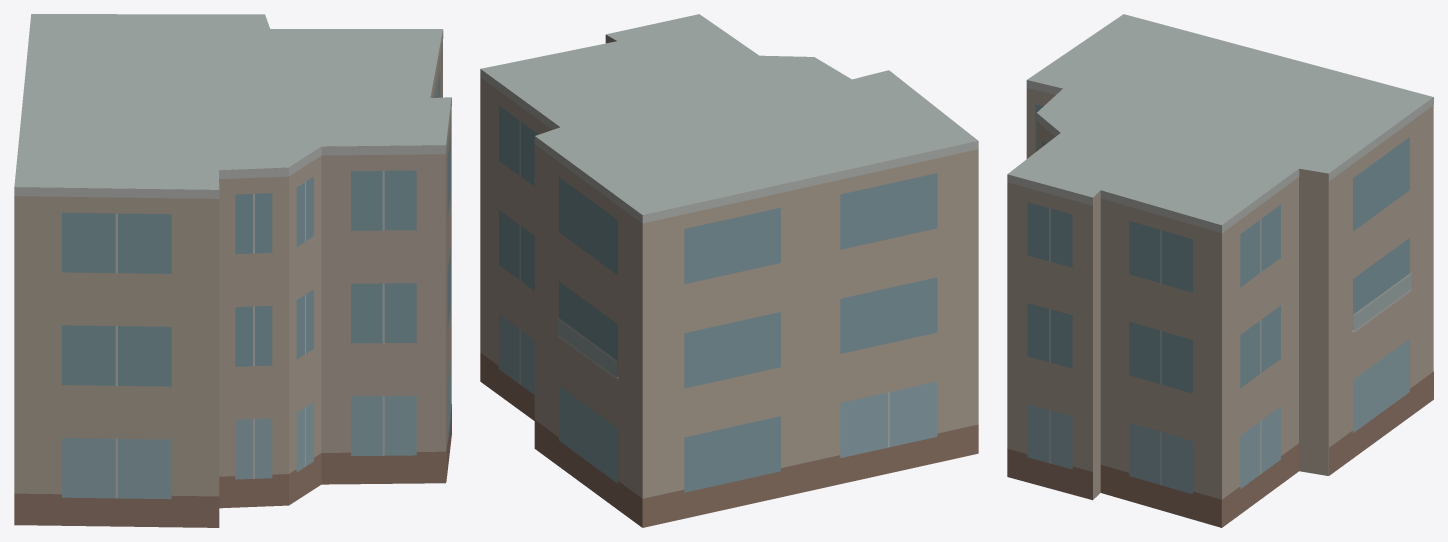
The model's file is survey-upis-32490868.glb.
3 renders of one model, left to right at view 1: azimuth 30°, elevation 25°; view 2: azimuth 150°, elevation 25°; view 3: azimuth 270°, elevation 25°, orthographic. The views are drawn at different scales.
Visible parts, largest first — view 1: survey-upis-32490868.tmp; view 2: survey-upis-32490868.tmp; view 3: survey-upis-32490868.tmp.
Boxes of the visible parts, x1,y1,x2,y2 form: survey-upis-32490868.tmp: (14, 14, 451, 527); survey-upis-32490868.tmp: (480, 14, 978, 527); survey-upis-32490868.tmp: (1007, 14, 1433, 527).
Bounding box in the file's own units: 13.71 × 9.15 × 11.7.
